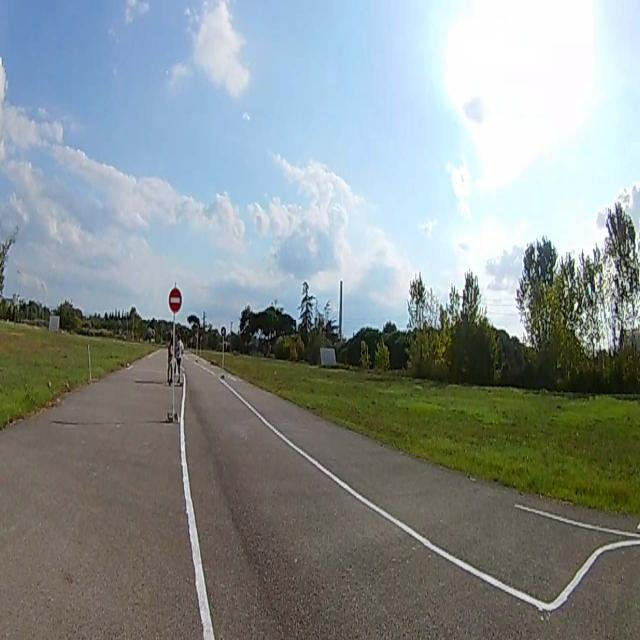girisyok: (168, 286, 182, 310)
